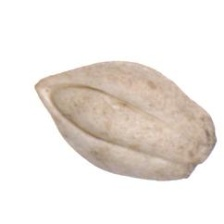L1: (186, 132, 218, 175), (34, 68, 70, 106)
L2: (36, 60, 216, 181)
